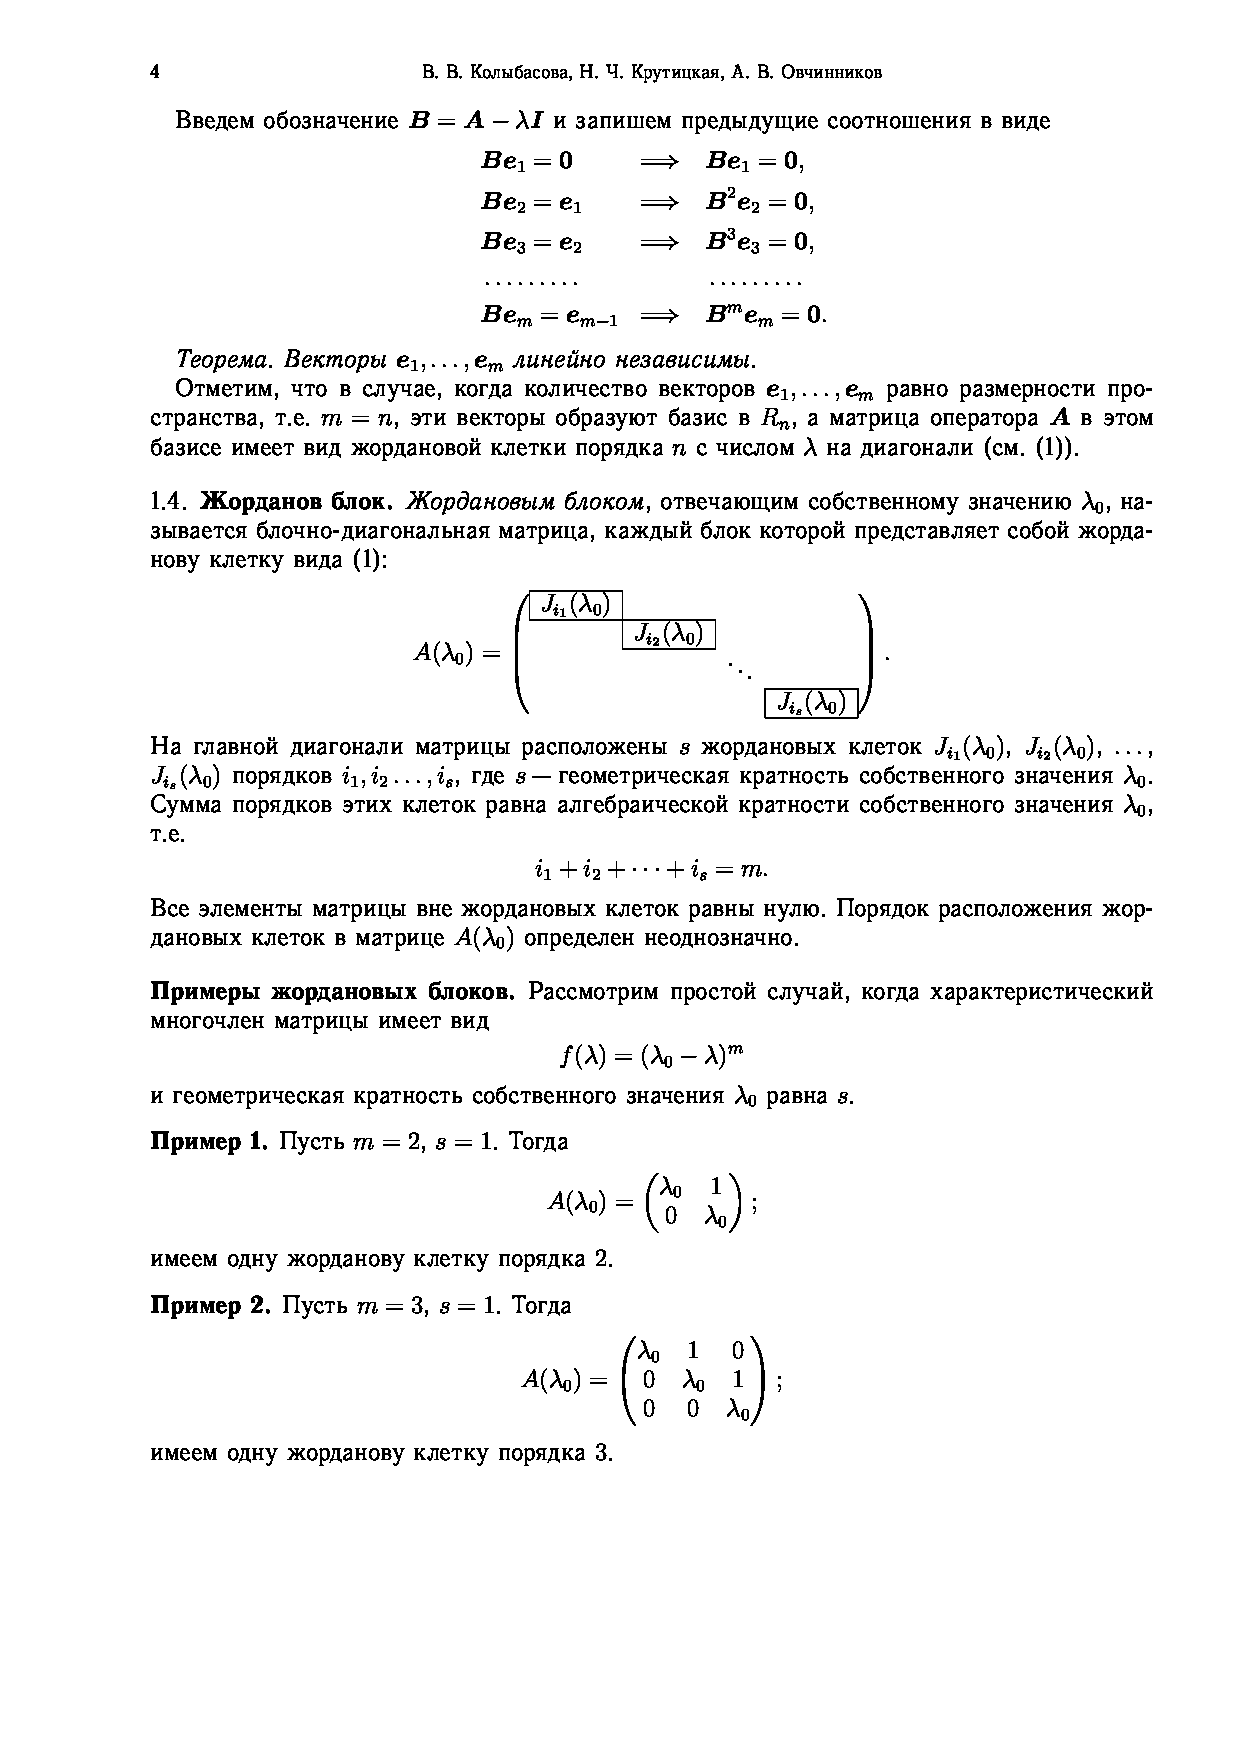pMatrix: (515, 590, 874, 722), (620, 1338, 764, 1433), (645, 1169, 743, 1239)
